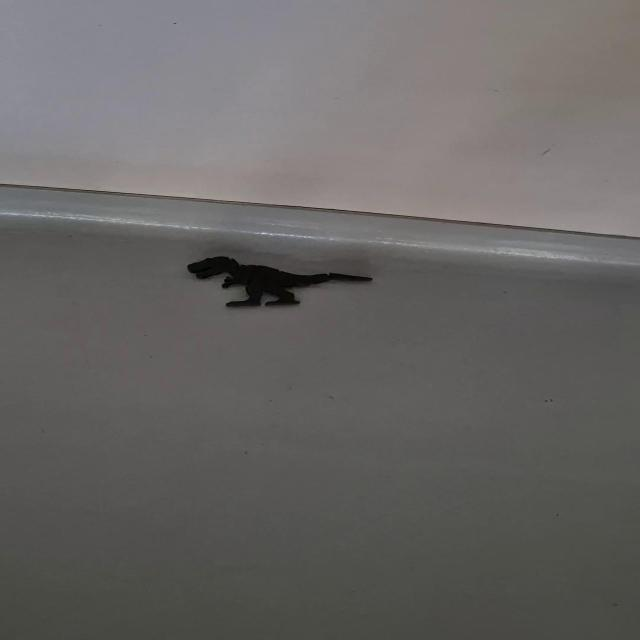dino: (186, 256, 374, 307)
